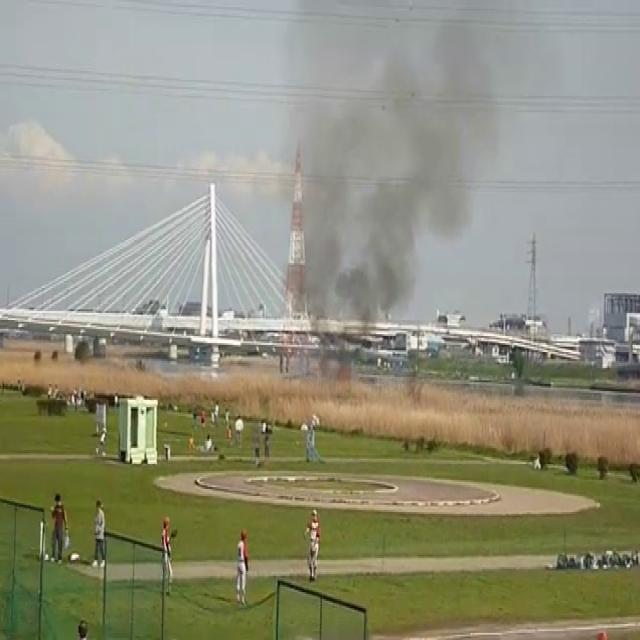Smoke: (259, 1, 532, 319)
